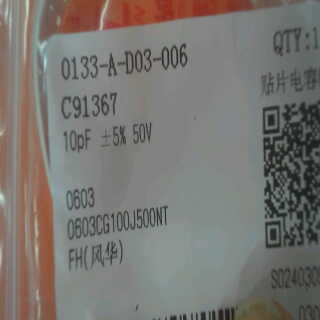10pF: (58, 122, 96, 155)
